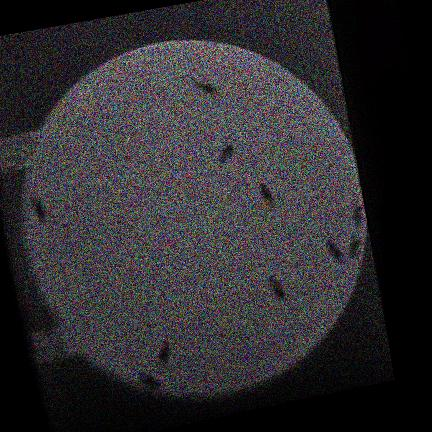fly: (325, 240, 344, 262), (269, 277, 287, 300), (259, 182, 275, 206), (219, 141, 237, 162), (140, 373, 161, 389), (31, 198, 46, 219), (157, 341, 170, 365), (348, 237, 362, 258), (196, 82, 217, 95), (353, 205, 364, 226)
